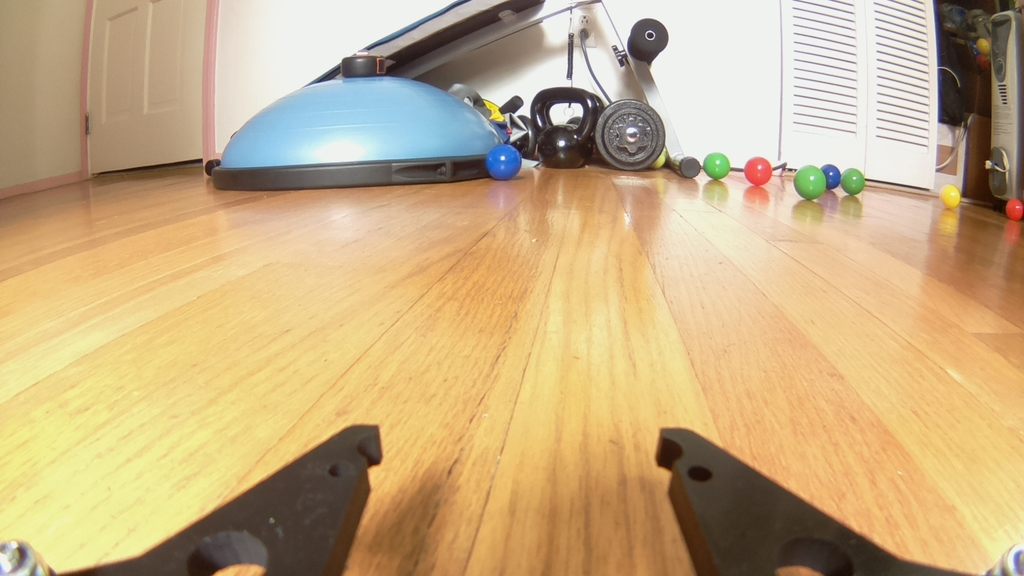ball: (1003, 195, 1023, 223)
